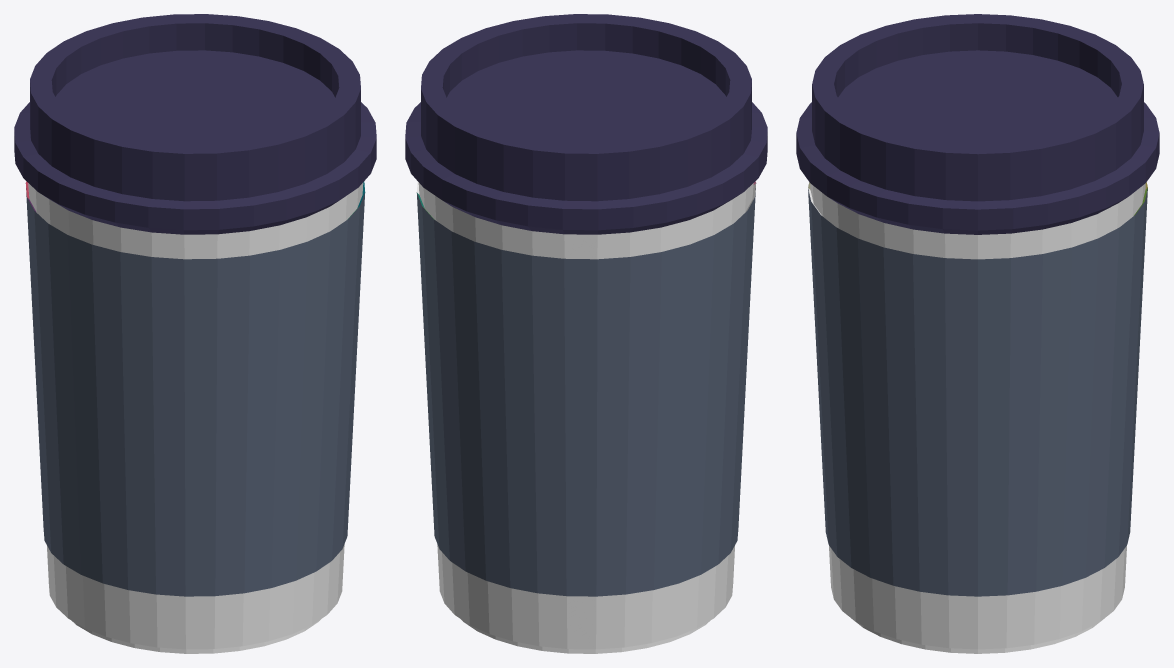
The model's file is coffee.glb.
The picture shows the model from 3 angles, left to right: view 1: azimuth 30°, elevation 25°; view 2: azimuth 150°, elevation 25°; view 3: azimuth 270°, elevation 25°; orthographic projection.
Parts seen in each view (by area): view 1: Cylinder; view 2: Cylinder; view 3: Cylinder.
Part boxes in pixels (bbox=[...]): Cylinder: bbox=[14, 14, 376, 653]; Cylinder: bbox=[405, 14, 767, 653]; Cylinder: bbox=[796, 14, 1159, 653].
Bounding box in the file's own units: 15.6 × 24.26 × 15.6.
1 material, 1 textured.
